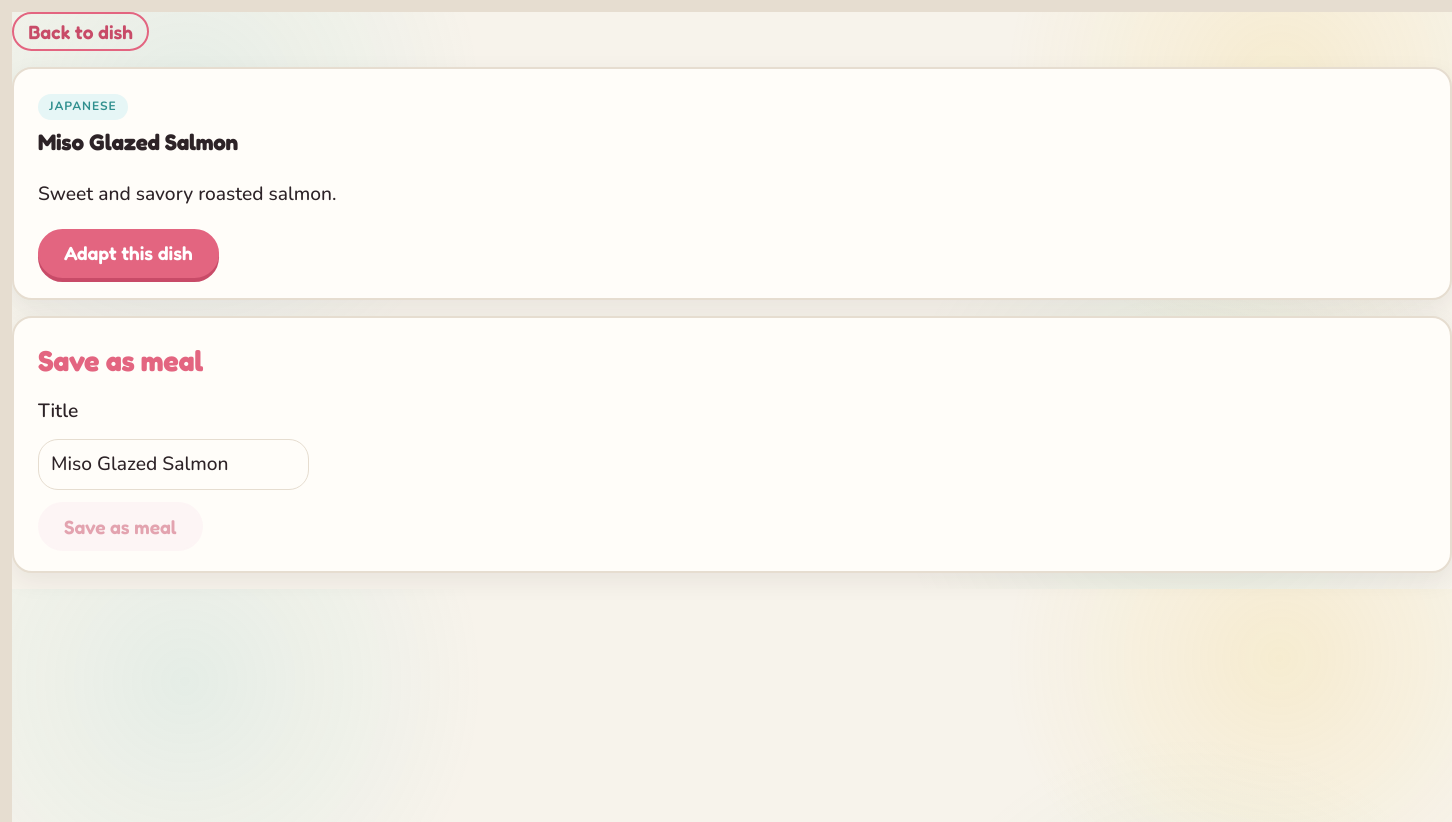
Test: adapt page › shows an adaptation 401 response and keeps saving disabled
Click the button "Adapt this dish": (128, 253) left=38, top=229, right=219, bottom=278
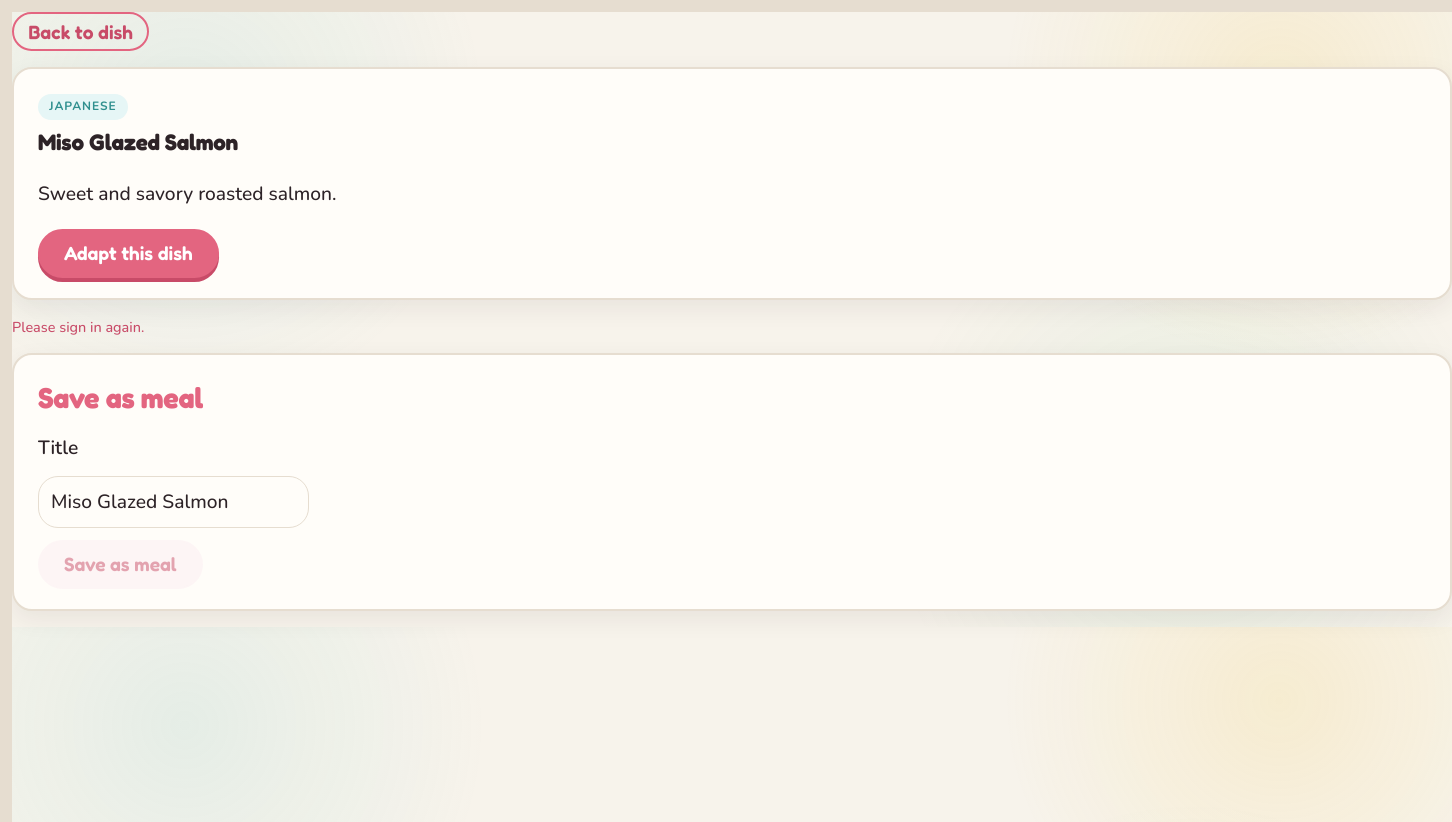
Check: the button "Save as meal" is disabled, box left=38, top=540, right=203, bottom=589
Check: the message reads "Please sign in again.", box left=12, top=317, right=144, bottom=337
